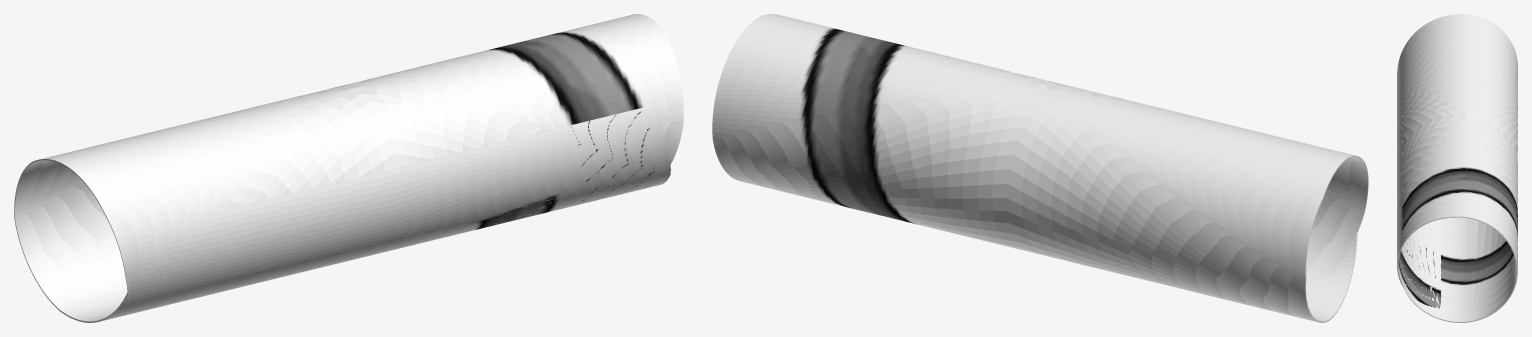
File: Level 91 beer barrell.fbx
3 renders of one model, left to right at view 1: azimuth 30°, elevation 25°; view 2: azimuth 150°, elevation 25°; view 3: azimuth 270°, elevation 25°, orthographic. The views are drawn at different scales.
Visible parts, largest first — view 1: Blend; view 2: Blend; view 3: Blend.
Part boxes in pixels (x1=…): Blend: x1=14, y1=14, x2=683, y2=322; Blend: x1=712, y1=14, x2=1368, y2=322; Blend: x1=1397, y1=14, x2=1517, y2=322.
Size of what is drawn, in the model's own units: 470 by 117 by 117.
